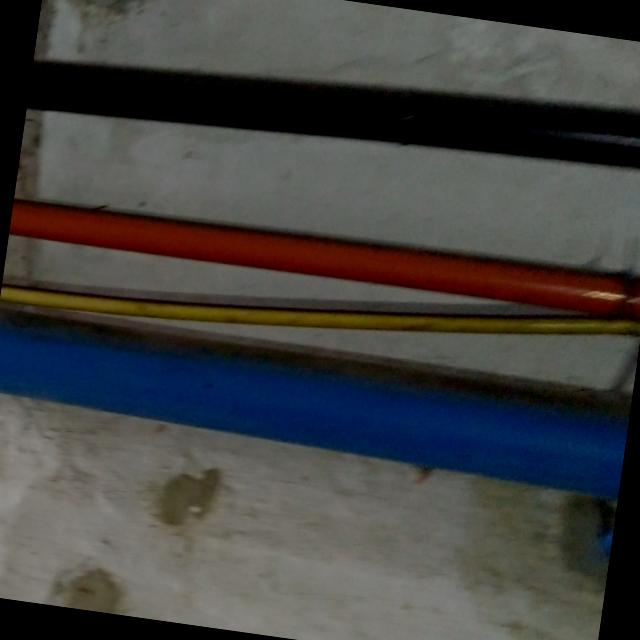gas: (0, 306, 633, 486), (26, 30, 640, 196), (7, 185, 640, 330)
